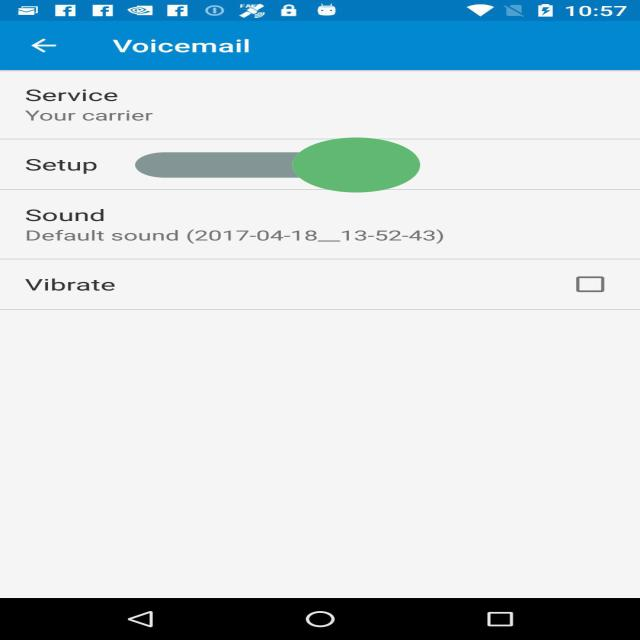social proof: (135, 104, 420, 226)
